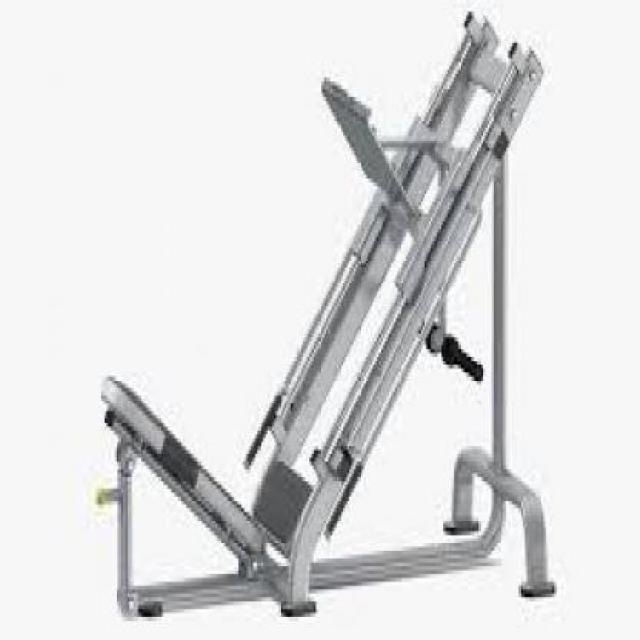leg press: (76, 0, 569, 632)
